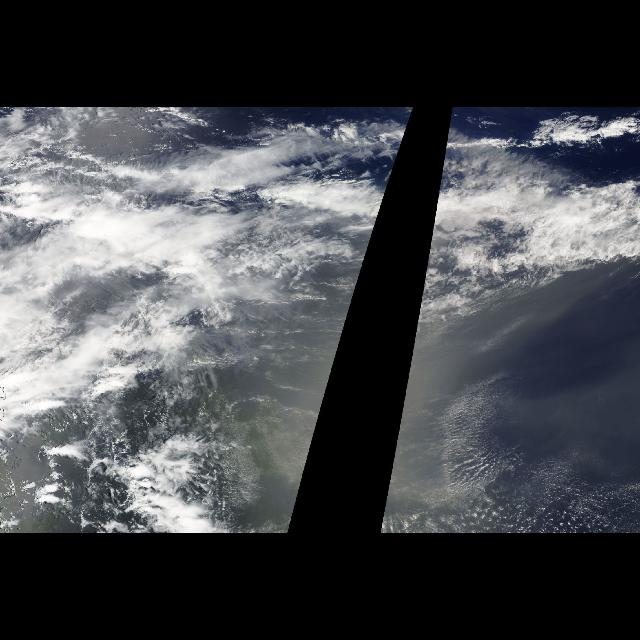Sugar: (380, 328, 640, 534)
